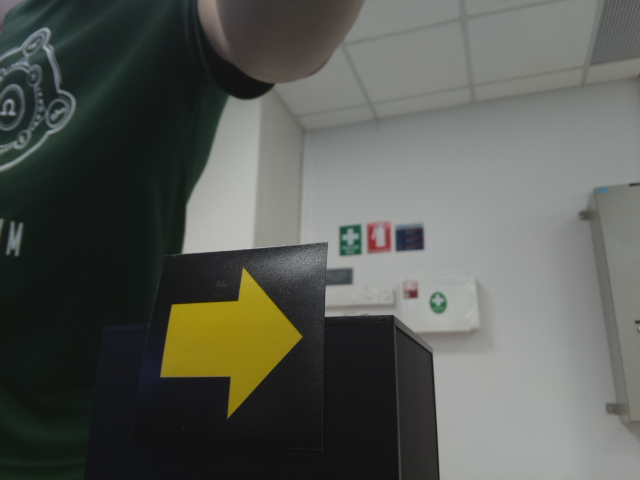right: (164, 265, 303, 415)
